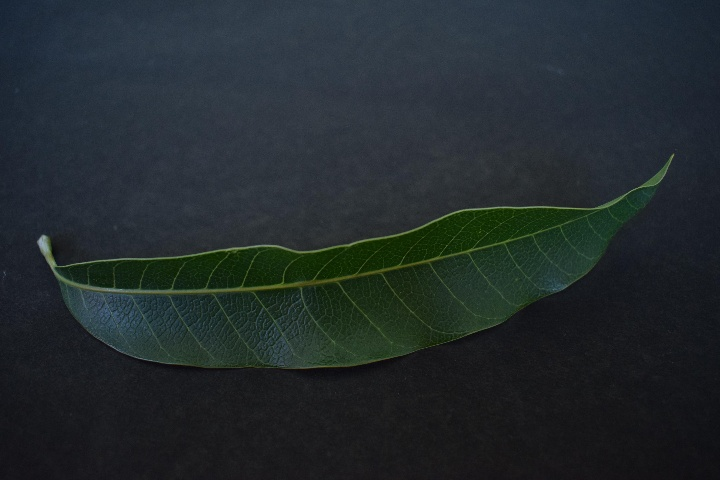healthy: (54, 156, 679, 367)
